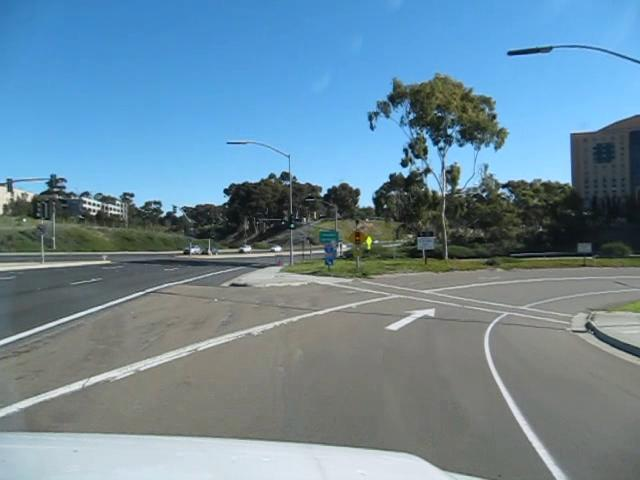signalAhead: (346, 227, 368, 248)
